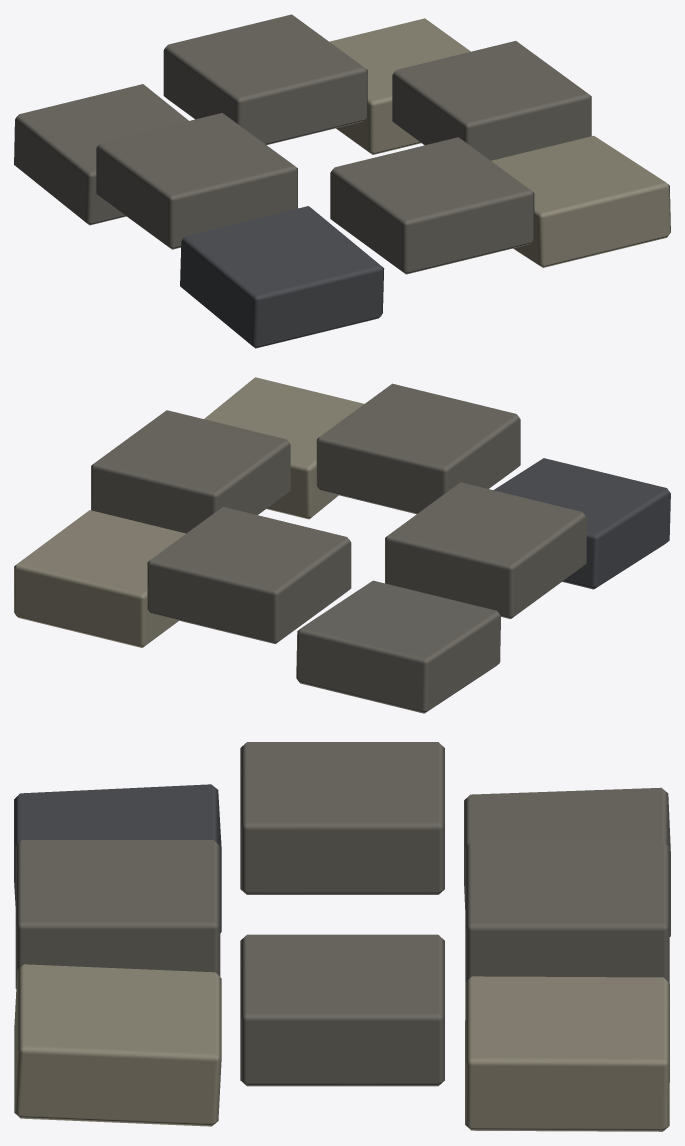
File: village-cobble-broken.f65de4c8.glb
The picture shows the model from 3 angles, top to bottom: view 1: azimuth 30°, elevation 25°; view 2: azimuth 150°, elevation 25°; view 3: azimuth 270°, elevation 25°; orthographic projection. The views are drawn at different scales.
Parts seen in each view (by area): view 1: body; view 2: body; view 3: body.
Boxes of the visible parts, x1=… form: body: x1=14, y1=14, x2=670, y2=348; body: x1=14, y1=377, x2=670, y2=713; body: x1=14, y1=742, x2=670, y2=1131.
Bounding box in the file's own units: 0.9705 × 0.2045 × 0.9733.
